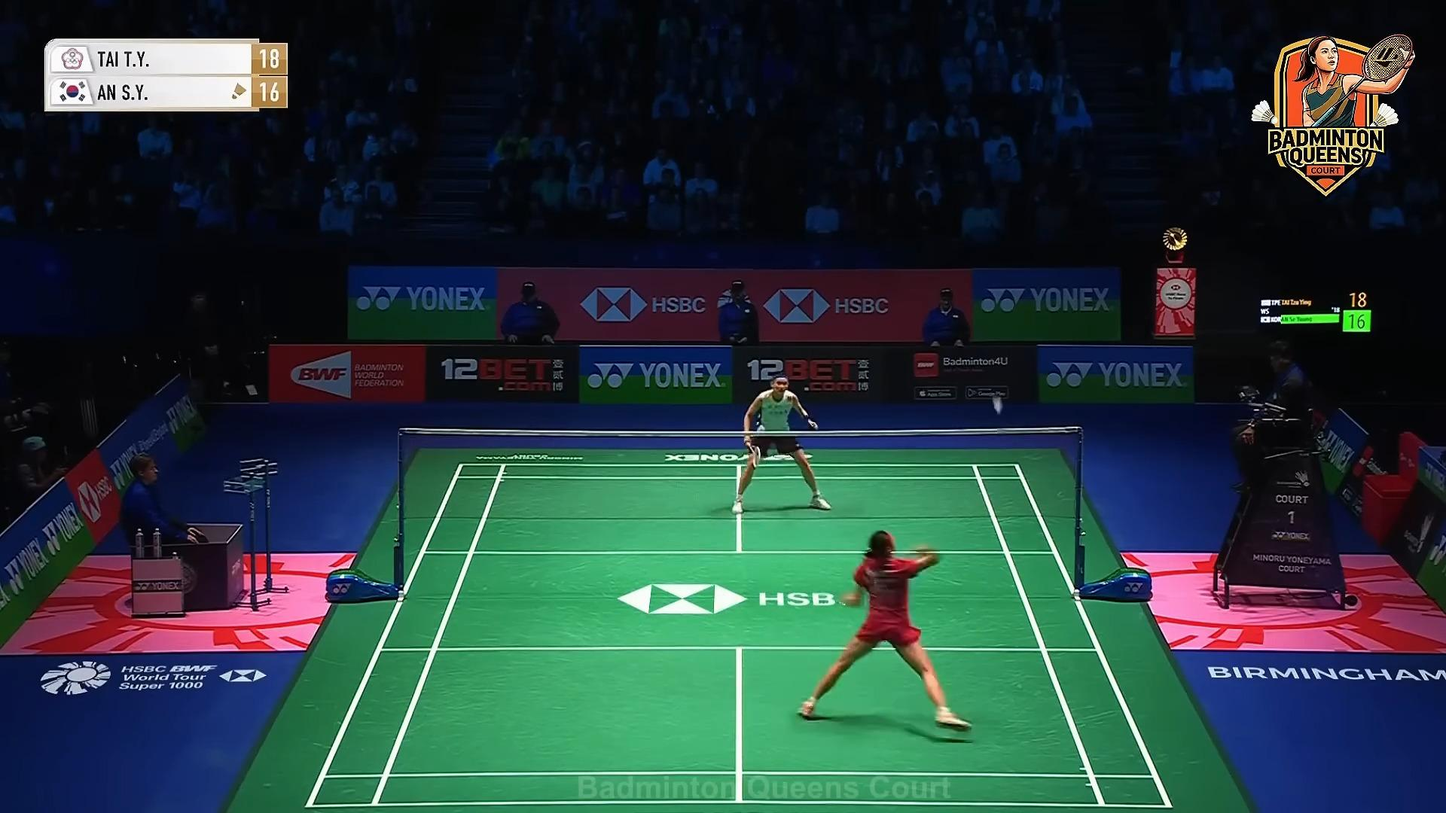shuttlecock: (993, 396, 1002, 415)
